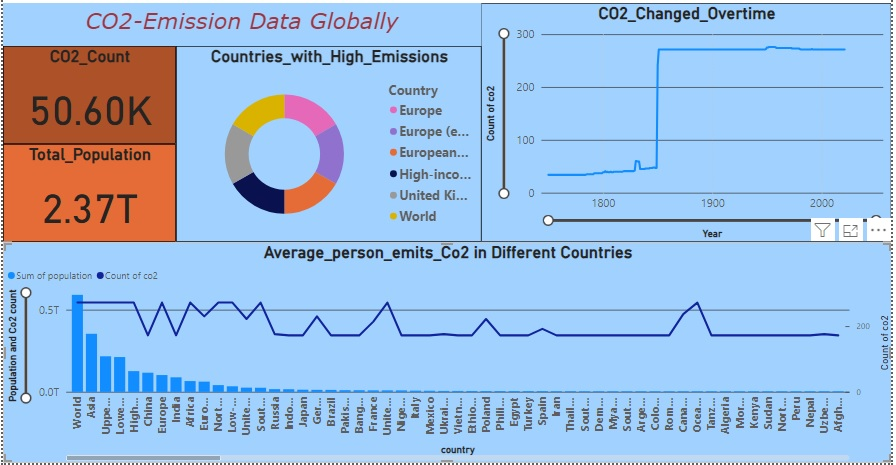

What the dashboard file says about the page in this screenshot:
{"tool":"powerbi","page":{"name":"Page 1","canvas":[1280,720],"ordinal":0},"visuals":[{"type":"card","title":"CO2_Count","fields":{"Values":["CountNonNull(visualizing_global_co2_data.co2)"]},"box":[0,119.3,248.6,141.1],"z":0},{"type":"lineChart","title":"CO2_Changed_Overtime","fields":{"Category":["visualizing_global_co2_data.year"],"Y":["CountNonNull(visualizing_global_co2_data.co2)"]},"box":[688.7,57.1,591.3,344.4],"z":1000},{"type":"card","title":"Total_Population","fields":{"Values":["Sum(visualizing_global_co2_data.population)"]},"box":[0,260.4,248.6,141.1],"z":2000},{"type":"lineStackedColumnComboChart","title":"Average_person_emits_Co2 in Different Countries","fields":{"Category":["visualizing_global_co2_data.country"],"Y":["Sum(visualizing_global_co2_data.population)"],"Y2":["CountNonNull(visualizing_global_co2_data.co2)"]},"box":[0,401.5,1280,319.2],"z":3000},{"type":"donutChart","title":"Countries_with_High_Emissions","fields":{"Category":["visualizing_global_co2_data.country"],"Y":["CountNonNull(visualizing_global_co2_data.co2)"]},"box":[248.6,119.3,440.1,282.2],"z":4000},{"type":"textbox","box":[0,33.6,26.9,23.5],"z":5000},{"type":"textbox","box":[0,57.1,688.7,62.2],"z":6000}]}

Visuals, with their boxes on the page's 1280x720 design canvas (x1, y1, x2, y2). These are canvas units, not pixel positions in the 896x465 screenshot, which may show the page scaled, cropped or inside an application window:
"CO2_Count" card: box(0, 119, 249, 260)
"CO2_Changed_Overtime" lineChart: box(689, 57, 1280, 402)
"Total_Population" card: box(0, 260, 249, 402)
"Average_person_emits_Co2 in Different Countries" lineStackedColumnComboChart: box(0, 402, 1280, 721)
"Countries_with_High_Emissions" donutChart: box(249, 119, 689, 402)
textbox: box(0, 34, 27, 57)
textbox: box(0, 57, 689, 119)
